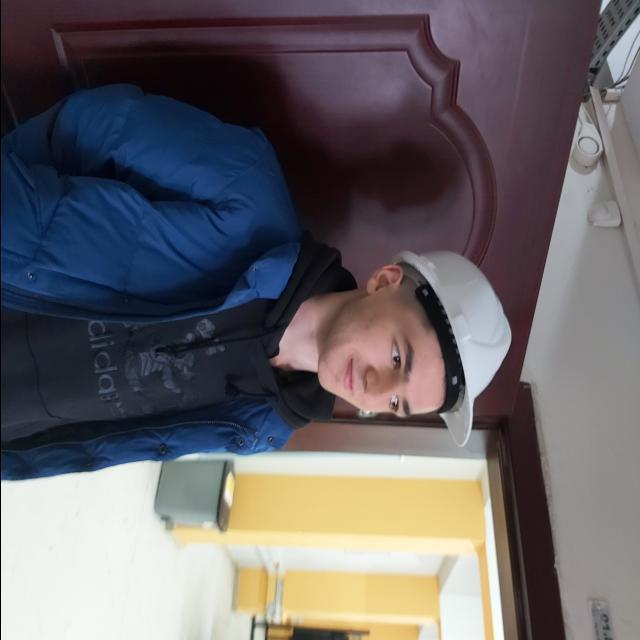helmet: (394, 251, 510, 444)
